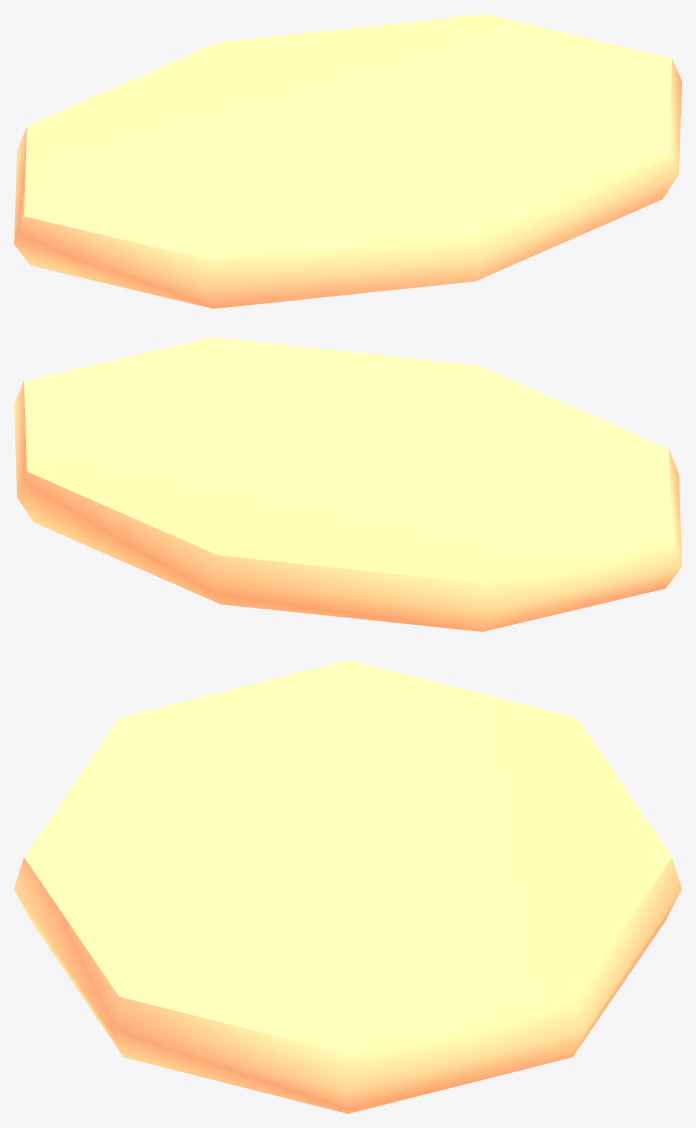
Rendered from wood_guard_079_004.glb.
3 renders of one model, top to bottom at view 1: azimuth 30°, elevation 25°; view 2: azimuth 150°, elevation 25°; view 3: azimuth 270°, elevation 25°, orthographic. The views are drawn at different scales.
Parts seen in each view (by area): view 1: wood_guard_079.004; view 2: wood_guard_079.004; view 3: wood_guard_079.004.
Boxes of the visible parts, bbox=[...] form: wood_guard_079.004: bbox=[14, 14, 681, 308]; wood_guard_079.004: bbox=[14, 337, 681, 631]; wood_guard_079.004: bbox=[14, 660, 681, 1113].
Size of the model in its own units: 5.51 by 0.4014 by 3.83.
1 material, 1 textured.
